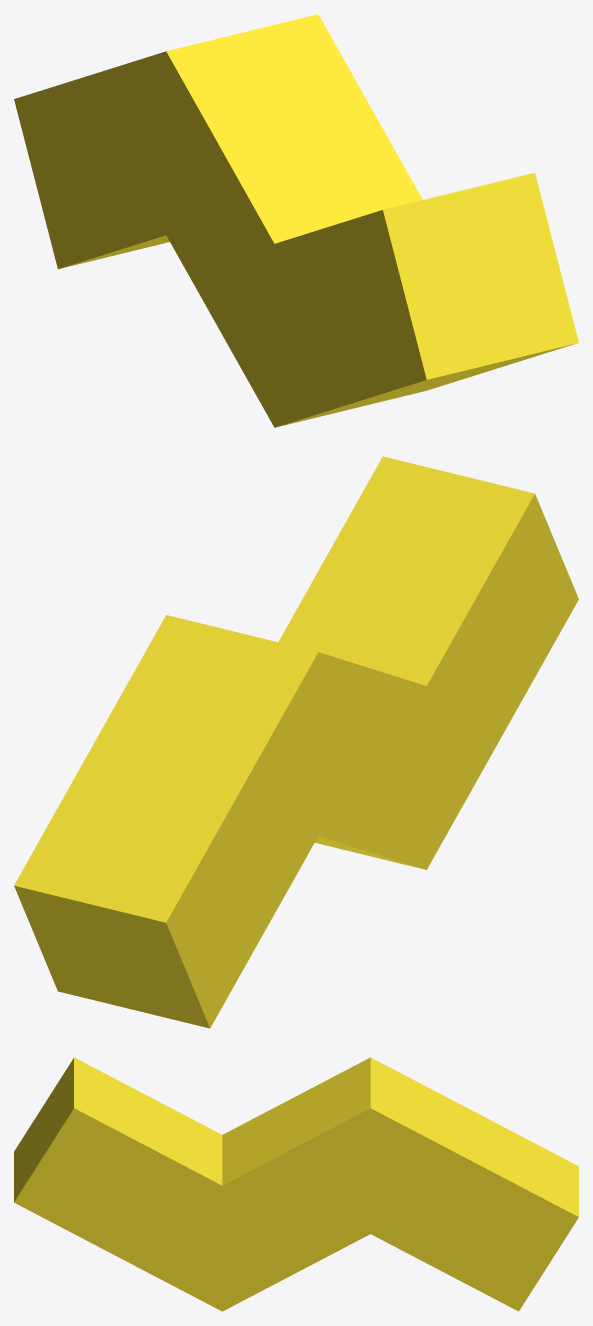
The model's file is ThunderA.fbx.
3 renders of one model, top to bottom at view 1: azimuth 30°, elevation 25°; view 2: azimuth 150°, elevation 25°; view 3: azimuth 270°, elevation 25°, orthographic. The views are drawn at different scales.
Parts seen in each view (by area): view 1: Cube.003; view 2: Cube.003; view 3: Cube.003.
Boxes of the visible parts, x1,y1,x2,y2 form: Cube.003: (14, 14, 578, 427); Cube.003: (14, 456, 578, 1028); Cube.003: (14, 1057, 578, 1311).
Bounding box in the file's own units: 40 × 74.64 × 188.
